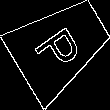P_NE: (32, 17, 89, 75)
